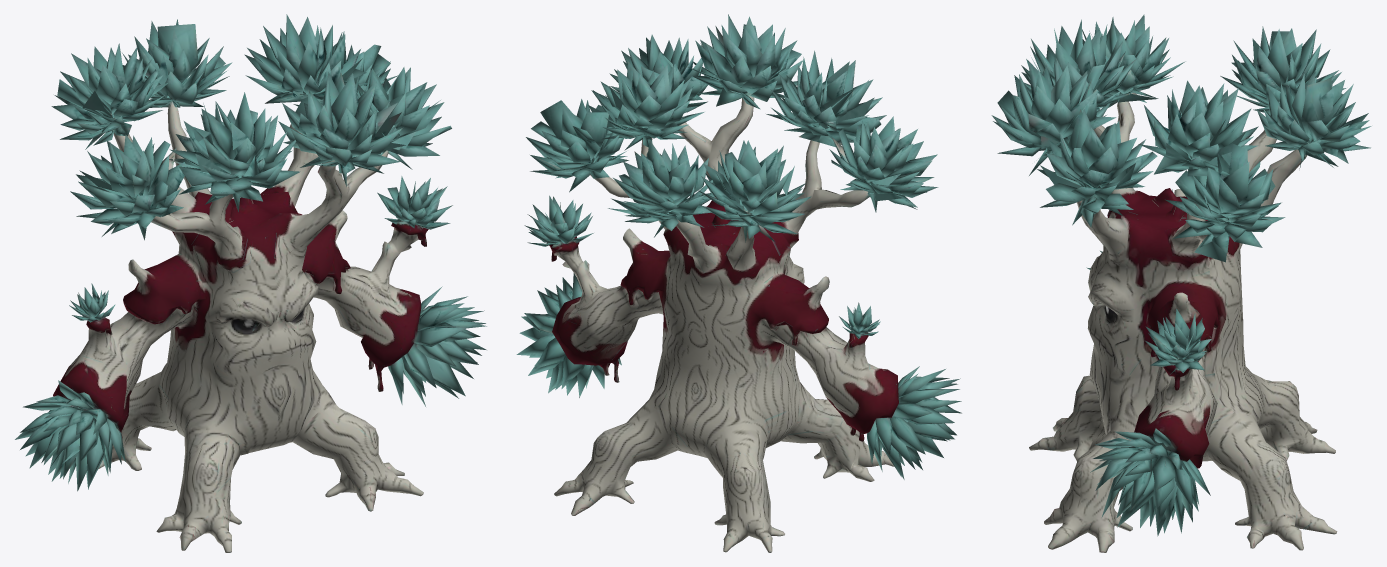
3 views of the same model, side by side, from view 1: azimuth 30°, elevation 25°; view 2: azimuth 150°, elevation 25°; view 3: azimuth 270°, elevation 25° (orthographic). The views are drawn at different scales.
Size of the model in its own units: 0.9604 by 0.8633 by 0.6714.
Materials: 1 (1 with a texture image).
